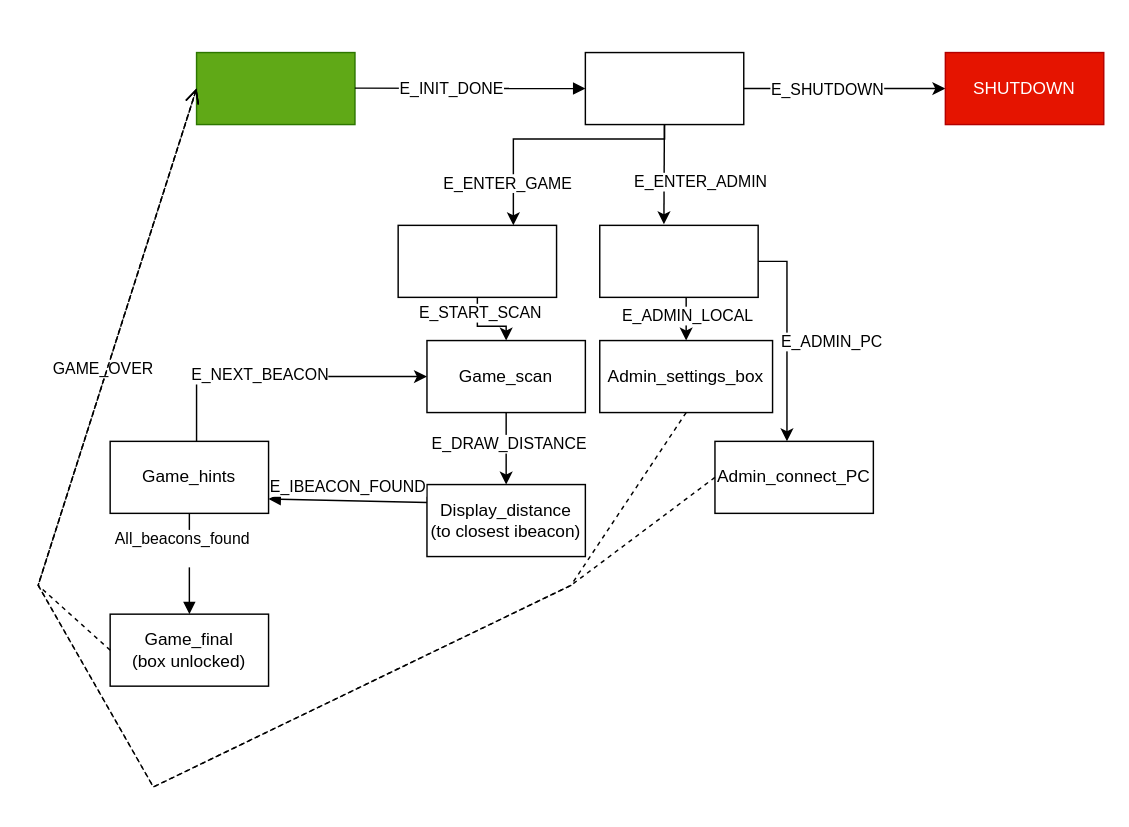
Image size: 1129x827. Some labels were removed from this diagram. Here are the shapes that lost their labels. From the top down, the box of each, then its label:
(195, 51, 355, 125): Init_state
(584, 51, 744, 125): Select_mode
(397, 224, 557, 297): Game_mode_init
(598, 224, 758, 297): Admin_mode _init
